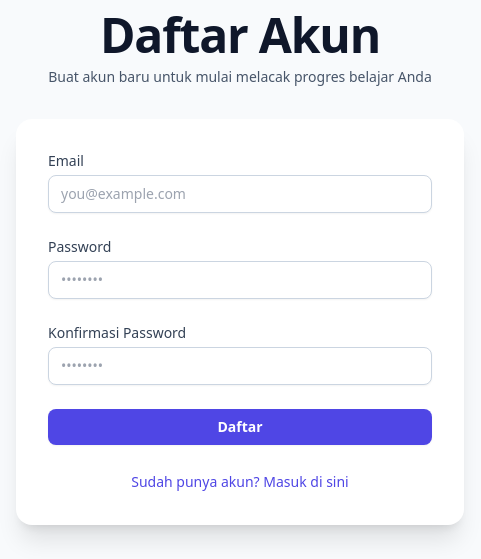
Test: RegisterPage › shows success message after successful registration
The width and height of the screenshot is (481, 559).
In the field labelled "Email": (240,194) [48,175,432,213], type "newuser@example.com"
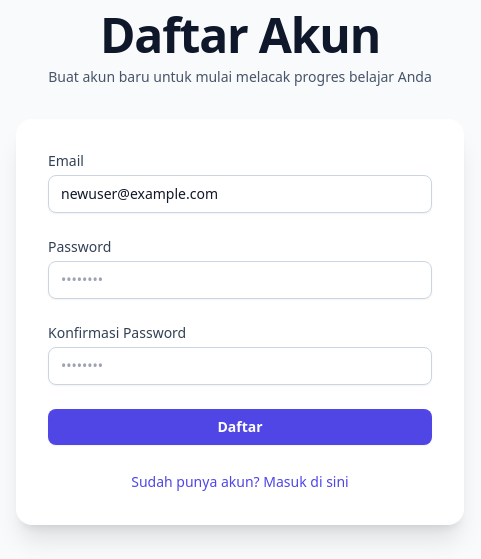
In the password field labelled "Password": (240,280) [48,261,432,299], type "password123"
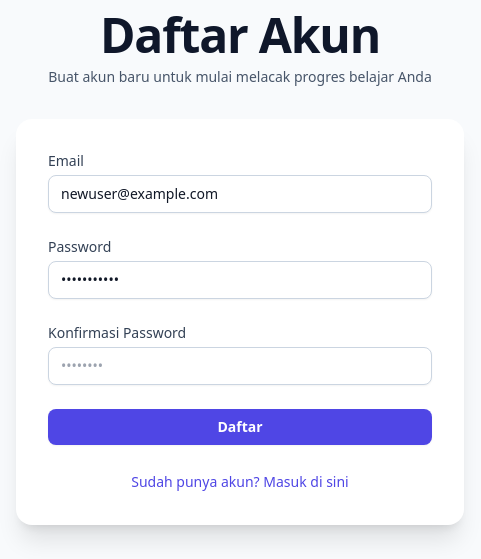
In the password field labelled "Konfirmasi Password": (240,366) [48,347,432,385], type "password123"
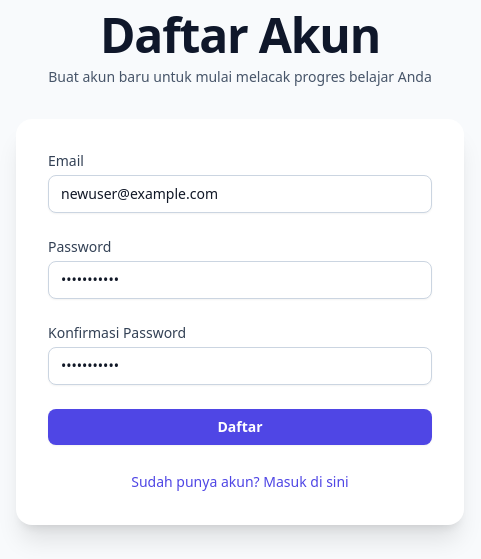
Click the button "Daftar": (240,427) [48,409,432,445]
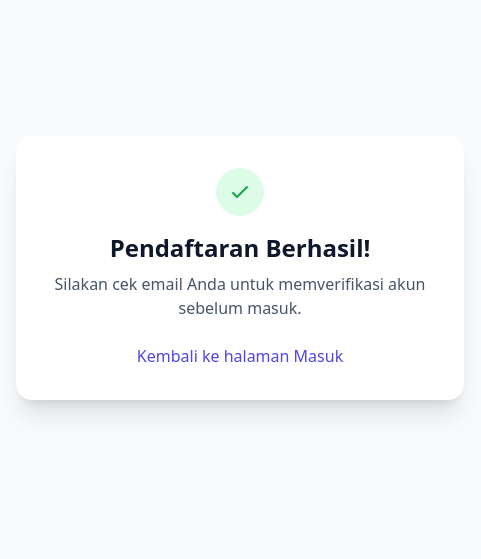
Now the heading "Pendaftaran Berhasil!" is shown, box [110,231,370,264]
